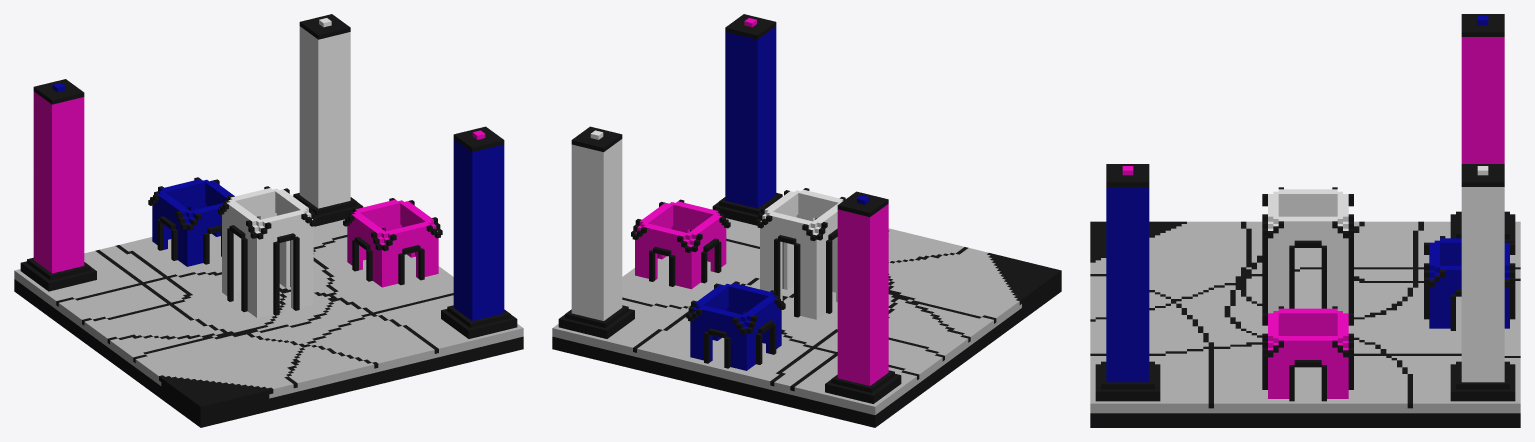
File: Fortress.obj
3 views of the same model, side by side, from view 1: azimuth 30°, elevation 25°; view 2: azimuth 150°, elevation 25°; view 3: azimuth 270°, elevation 25° (orthographic). The views are drawn at different scales.
Parts seen in each view (by area): view 1: Fortress; view 2: Fortress; view 3: Fortress.
Boxes of the visible parts, x1,y1,x2,y2 form: Fortress: [14, 14, 523, 427]; Fortress: [552, 14, 1061, 427]; Fortress: [1090, 14, 1520, 427].
Bounding box in the file's own units: 80 × 50 × 80.
1 material, 1 textured.
